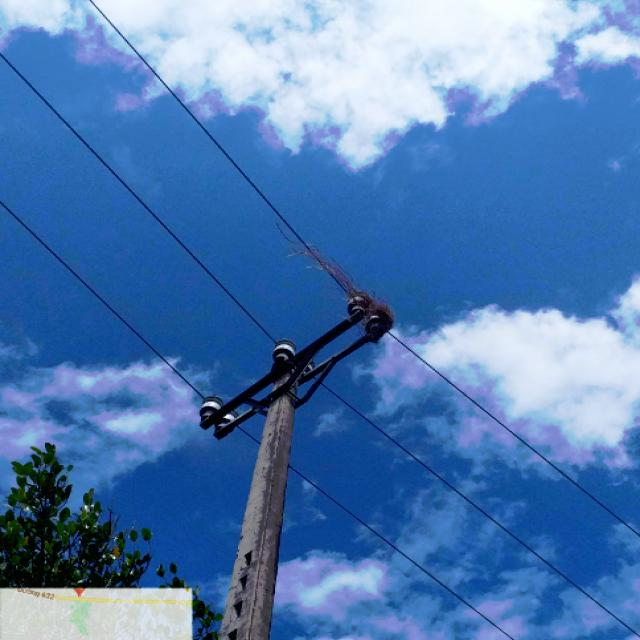obstruction: (287, 243, 400, 339)
poles: (192, 294, 389, 635)
wires: (0, 53, 280, 346), (322, 386, 636, 635), (88, 3, 314, 248), (395, 344, 639, 540), (4, 198, 205, 406), (294, 469, 526, 639), (237, 427, 264, 450)
